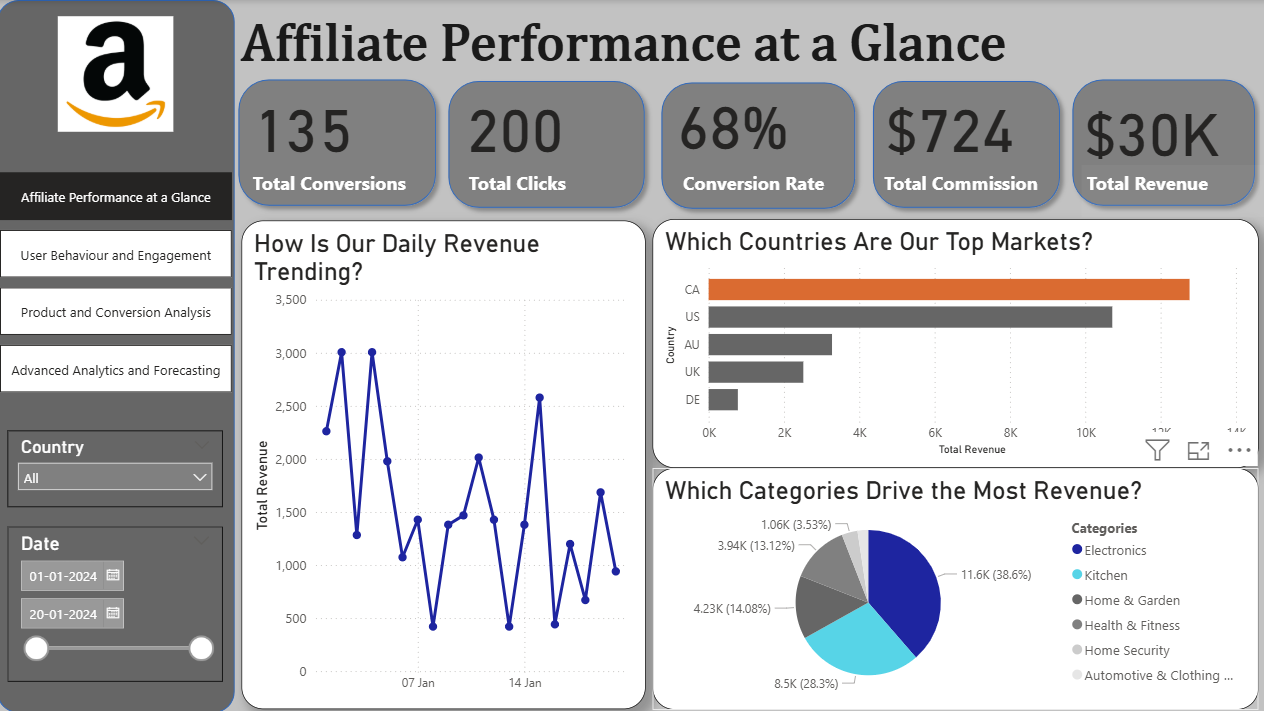

Layout of this report page (visuals, bound fields, positions):
{"tool":"powerbi","page":{"name":"Affiliate Performance at a Glance","canvas":[1280,720],"ordinal":0},"visuals":[{"type":"textbox","box":[99.9,12.1,1096.3,74.2],"z":0},{"type":"card","fields":{"Values":["_Key Measures.Total Conversions"]},"box":[189.3,86.3,190.8,145.4],"z":1000},{"type":"card","fields":{"Values":["_Key Measures.Total_Clicks"]},"box":[380.1,86.3,189.3,145.4],"z":2000},{"type":"card","fields":{"Values":["_Key Measures.Total_Revenue"]},"box":[1016,86.3,248.3,145.4],"z":3000},{"type":"image","box":[9.1,0,162,178.7],"z":4000},{"type":"card","fields":{"Values":["_Key Measures.Conversion_Rate"]},"box":[569.3,86.3,202.9,145.4],"z":5000},{"type":"card","fields":{"Values":["_Key Measures.Total_Commission"]},"box":[772.2,86.3,243.8,145.4],"z":6000},{"type":"barChart","title":"Which Countries Are Our Top Markets?","fields":{"Category":["Clicks.country"],"Y":["_Key Measures.Total_Revenue"]},"box":[640.5,461.8,623.9,249.8],"z":7000},{"type":"pieChart","title":"Which Categories Drive the Most Revenue?","fields":{"Category":["Products.Others"],"Y":["_Key Measures.Total_Revenue"]},"box":[640.5,243.8,623.9,213.5],"z":8000},{"type":"lineChart","title":"How Is Our Daily Revenue Trending?","fields":{"Category":["Dates.Date.Variation.Date Hierarchy.Year","Dates.Date.Variation.Date Hierarchy.Quarter","Dates.Date.Variation.Date Hierarchy.Month","Dates.Date.Variation.Date Hierarchy.Day"],"Y":["_Key Measures.Total_Revenue"]},"box":[19.7,360.4,602.7,351.3],"z":9000},{"type":"slicer","fields":{"Values":["Dates.Date"]},"box":[334.6,243.8,287.7,95.4],"z":10000},{"type":"slicer","fields":{"Values":["Clicks.country"]},"box":[19.7,243.8,301.3,95.4],"z":11000}]}

Visuals, with their boxes on the page's 1280x720 design canvas (x1, y1, x2, y2). These are canvas units, not pixel positions in the 1264x711 screenshot, which may show the page scaled, cropped or inside an application window:
textbox: x1=100, y1=12, x2=1196, y2=86
card - _Key Measures.Total Conversions: x1=189, y1=86, x2=380, y2=232
card - _Key Measures.Total_Clicks: x1=380, y1=86, x2=569, y2=232
card - _Key Measures.Total_Revenue: x1=1016, y1=86, x2=1264, y2=232
image: x1=9, y1=0, x2=171, y2=179
card - _Key Measures.Conversion_Rate: x1=569, y1=86, x2=772, y2=232
card - _Key Measures.Total_Commission: x1=772, y1=86, x2=1016, y2=232
"Which Countries Are Our Top Markets?" barChart: x1=640, y1=462, x2=1264, y2=712
"Which Categories Drive the Most Revenue?" pieChart: x1=640, y1=244, x2=1264, y2=457
"How Is Our Daily Revenue Trending?" lineChart: x1=20, y1=360, x2=622, y2=712
slicer - Dates.Date: x1=335, y1=244, x2=622, y2=339
slicer - Clicks.country: x1=20, y1=244, x2=321, y2=339
